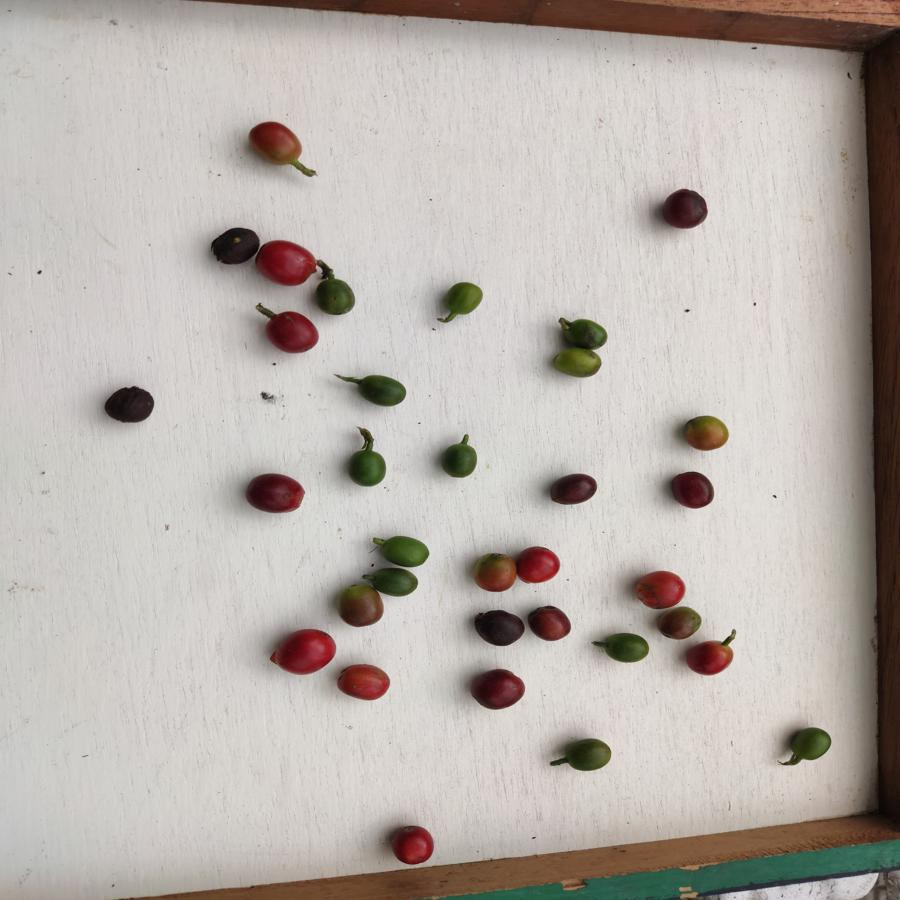Inmaduro: (560, 734, 617, 777), (787, 720, 838, 768), (314, 277, 365, 318), (351, 372, 409, 408), (559, 314, 614, 351), (550, 343, 605, 380), (364, 562, 423, 596), (377, 532, 432, 567), (596, 631, 651, 666), (440, 438, 481, 482), (348, 449, 387, 493), (444, 276, 484, 318)
Maduro: (254, 236, 320, 290), (272, 628, 337, 679), (258, 307, 321, 357), (335, 660, 394, 704), (386, 820, 440, 866), (635, 567, 688, 610), (688, 635, 738, 678), (517, 543, 563, 586)
Pinton: (245, 118, 308, 171), (337, 582, 385, 629), (682, 410, 731, 455), (471, 550, 516, 593), (656, 604, 704, 641)
Sobremaduro: (248, 471, 307, 518), (658, 180, 710, 233), (473, 665, 529, 713), (103, 381, 158, 425), (668, 467, 717, 512), (475, 606, 526, 648), (548, 470, 599, 510), (208, 228, 259, 266), (525, 601, 573, 641)
